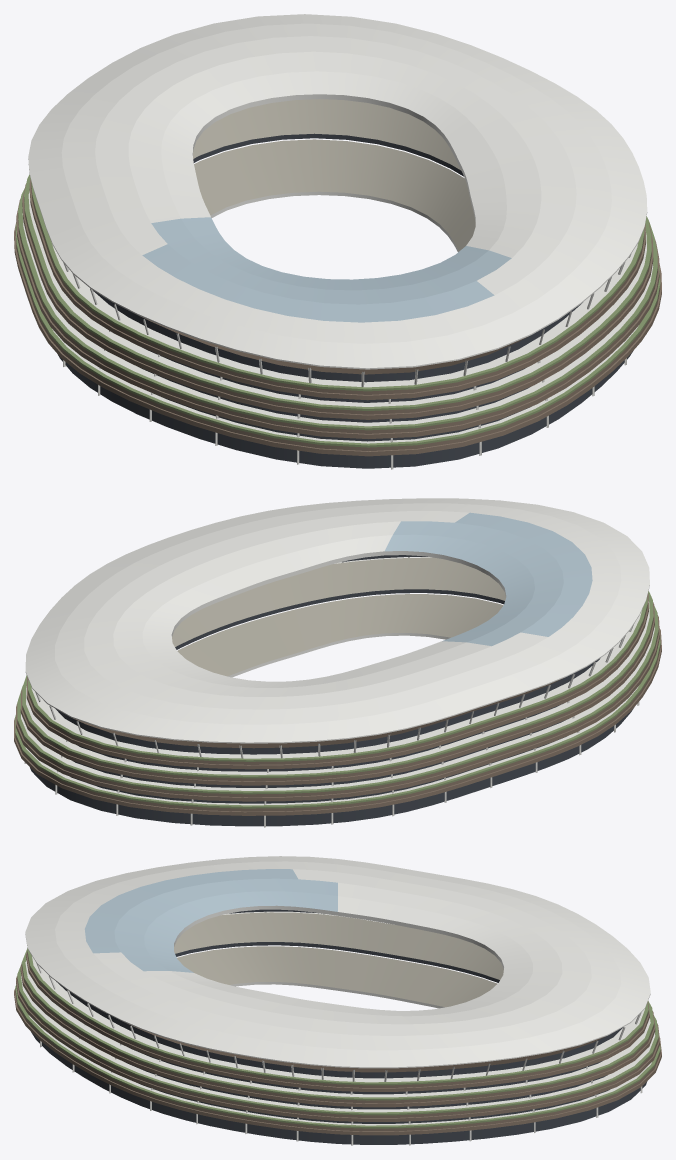
File: tokyo-national-stadium.glb
3 renders of one model, top to bottom at view 1: azimuth 30°, elevation 25°; view 2: azimuth 150°, elevation 25°; view 3: azimuth 270°, elevation 25°, orthographic. The views are drawn at different scales.
Visible parts, largest first — view 1: Japan National Stadium; view 2: Japan National Stadium; view 3: Japan National Stadium.
Part boxes in pixels (left/top/right/bottom): Japan National Stadium: left=14, top=14, right=661, bottom=469; Japan National Stadium: left=14, top=498, right=661, bottom=827; Japan National Stadium: left=14, top=856, right=661, bottom=1145.
Bounding box in the file's own units: 273 × 50.44 × 339.
